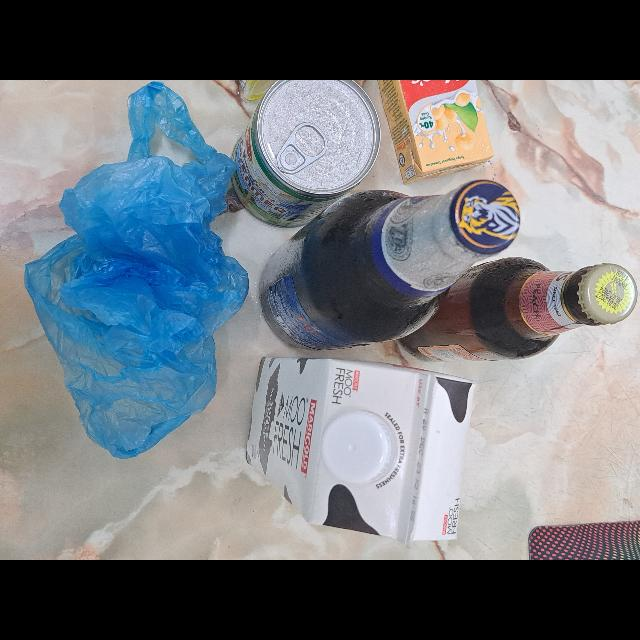aba de lata: (278, 121, 328, 175)
caixinha: (244, 356, 476, 546), (376, 80, 492, 186)
garrafa de vidro: (260, 180, 520, 352), (401, 256, 637, 362)
lata: (232, 80, 381, 228)
sacola plástica: (22, 80, 252, 460)
tampa plástica: (318, 410, 398, 486)
